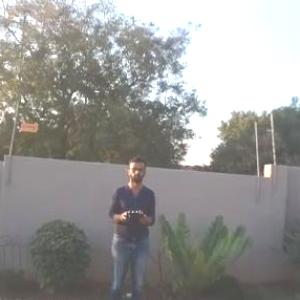follow: (104, 151, 160, 299)
